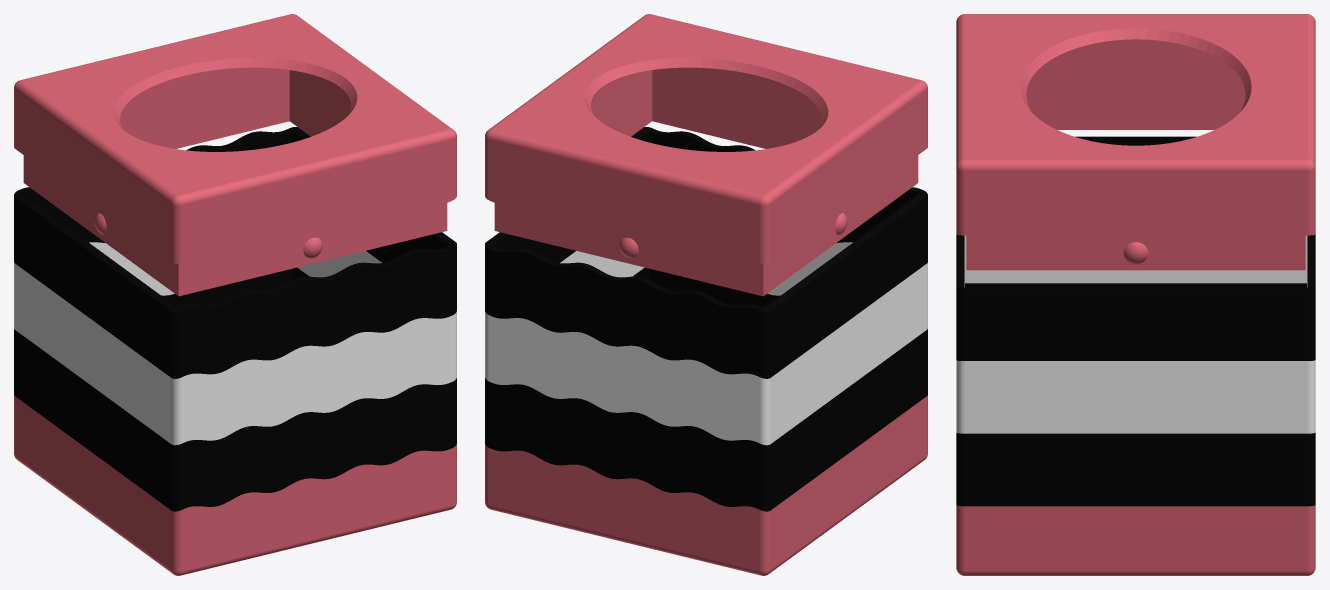
File: liquorice_allsort_tissue_box_exploded.glb
3 renders of one model, left to right at view 1: azimuth 30°, elevation 25°; view 2: azimuth 150°, elevation 25°; view 3: azimuth 270°, elevation 25°, orthographic. The views are drawn at different scales.
Visible parts, largest first — view 1: liquorice_allsort_tissue_box_5, liquorice_allsort_tissue_box_4, liquorice_allsort_tissue_box_3, liquorice_allsort_tissue_box_2, liquorice_allsort_tissue_box_1; view 2: liquorice_allsort_tissue_box_5, liquorice_allsort_tissue_box_4, liquorice_allsort_tissue_box_3, liquorice_allsort_tissue_box_2, liquorice_allsort_tissue_box_1; view 3: liquorice_allsort_tissue_box_5, liquorice_allsort_tissue_box_3, liquorice_allsort_tissue_box_4, liquorice_allsort_tissue_box_2, liquorice_allsort_tissue_box_1.
Boxes of the visible parts, bbox=[...] form: liquorice_allsort_tissue_box_5: bbox=[14, 14, 456, 296]; liquorice_allsort_tissue_box_4: bbox=[14, 127, 456, 378]; liquorice_allsort_tissue_box_3: bbox=[14, 242, 456, 445]; liquorice_allsort_tissue_box_2: bbox=[14, 267, 456, 511]; liquorice_allsort_tissue_box_1: bbox=[14, 395, 456, 575]; liquorice_allsort_tissue_box_5: bbox=[485, 14, 927, 296]; liquorice_allsort_tissue_box_4: bbox=[485, 127, 927, 378]; liquorice_allsort_tissue_box_3: bbox=[485, 242, 927, 445]; liquorice_allsort_tissue_box_2: bbox=[485, 267, 927, 511]; liquorice_allsort_tissue_box_1: bbox=[485, 395, 927, 575]; liquorice_allsort_tissue_box_5: bbox=[956, 14, 1315, 270]; liquorice_allsort_tissue_box_3: bbox=[956, 235, 1315, 433]; liquorice_allsort_tissue_box_4: bbox=[956, 136, 1315, 360]; liquorice_allsort_tissue_box_2: bbox=[956, 283, 1315, 506]; liquorice_allsort_tissue_box_1: bbox=[956, 505, 1315, 575].
Bounding box in the file's own units: 12.3 × 15.7 × 12.3.
